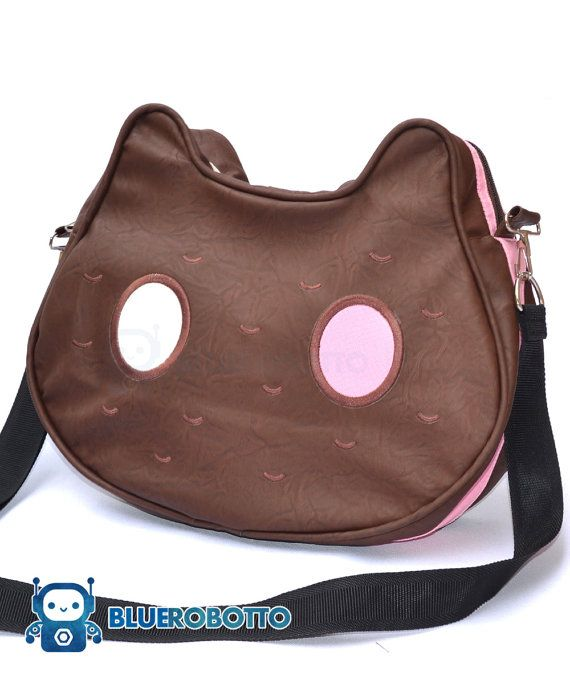nylon: (26, 103, 522, 550)
